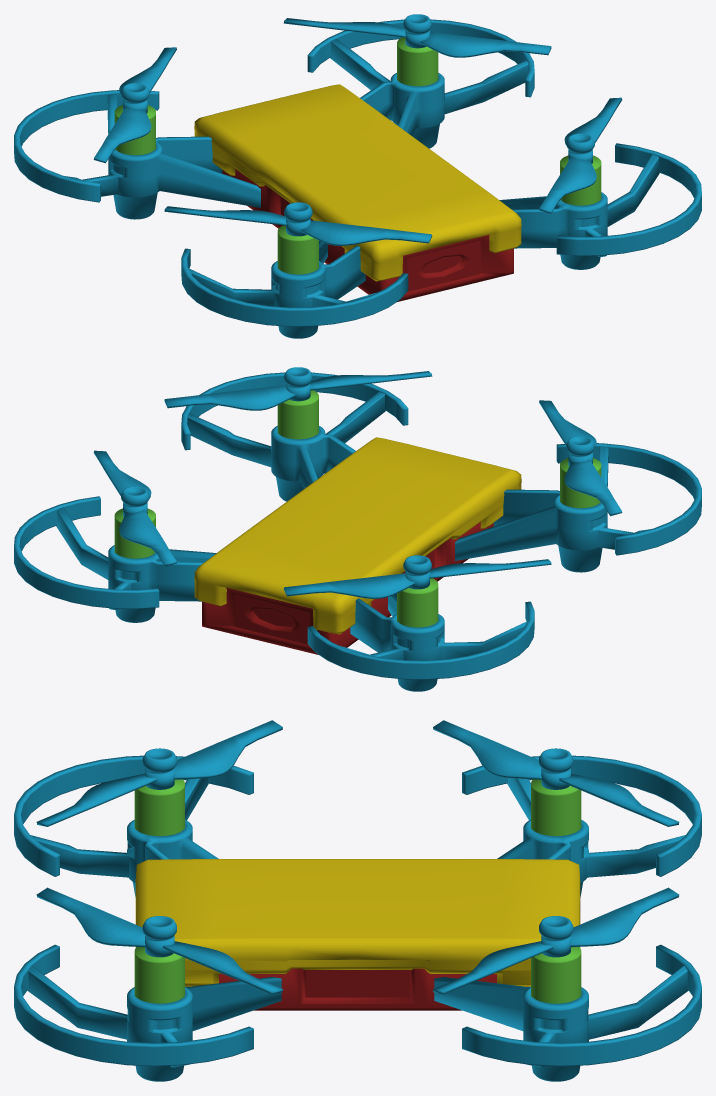
Rendered from drone.fbx.
The picture shows the model from 3 angles, top to bottom: view 1: azimuth 30°, elevation 25°; view 2: azimuth 150°, elevation 25°; view 3: azimuth 270°, elevation 25°; orthographic projection. The views are drawn at different scales.
Visible parts, largest first — view 1: Cylinder.001; view 2: Cylinder.001; view 3: Cylinder.001.
Part boxes in pixels (box(x1,y1,x2,y2)): Cylinder.001: box(14, 14, 701, 338); Cylinder.001: box(14, 367, 701, 691); Cylinder.001: box(14, 720, 701, 1081).
Size of the model in its own units: 1777 by 445 by 1777.
